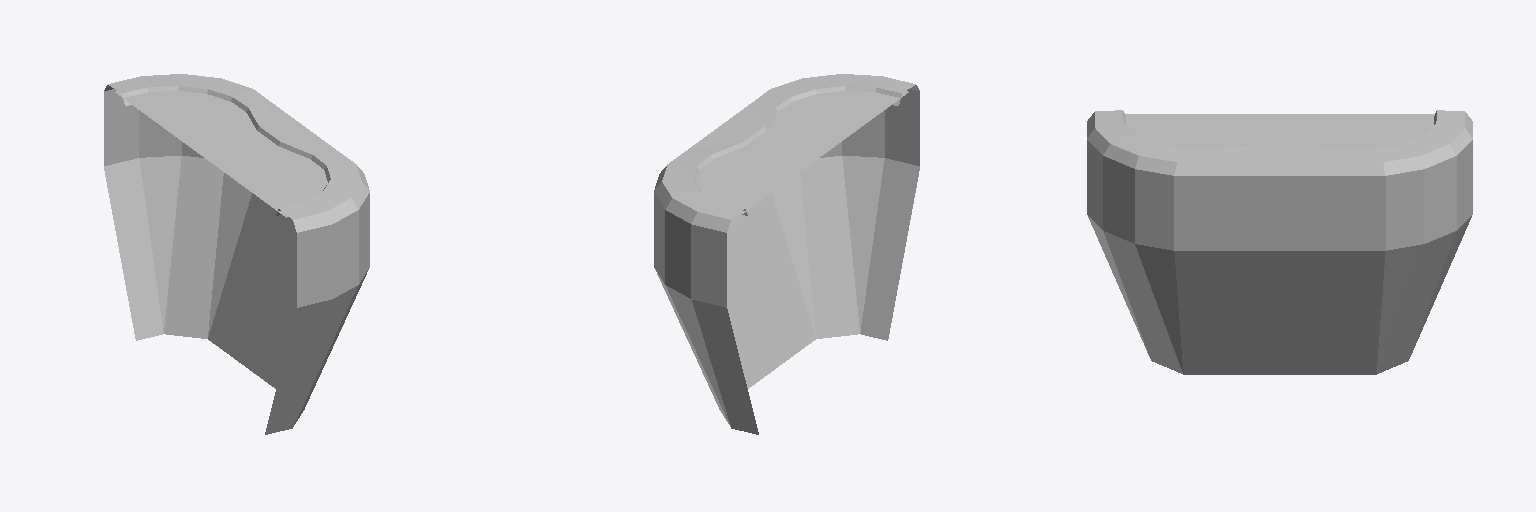
File: module_end_d.obj
The picture shows the model from 3 angles: view 1: azimuth 30°, elevation 25°; view 2: azimuth 150°, elevation 25°; view 3: azimuth 270°, elevation 25°; orthographic projection.
Visible parts, largest first — view 1: module_end_d; view 2: module_end_d; view 3: module_end_d.
Boxes of the visible parts, x1,y1,x2,y2 form: module_end_d: [104, 74, 369, 434]; module_end_d: [654, 74, 919, 434]; module_end_d: [1087, 110, 1472, 374].
Size of the model in its own units: 200 by 406 by 600.